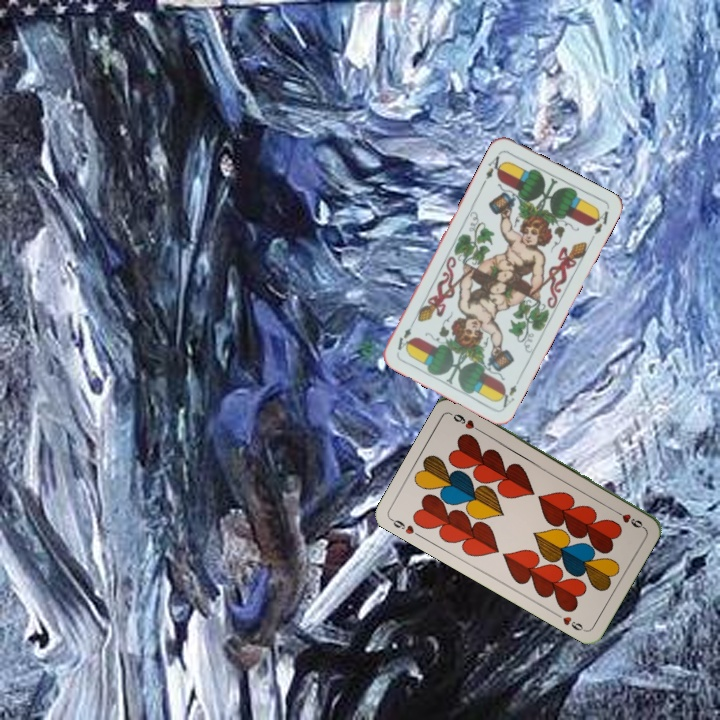EA: (479, 149, 507, 187), (495, 381, 519, 410)
H9: (386, 514, 424, 540), (609, 506, 646, 531)
